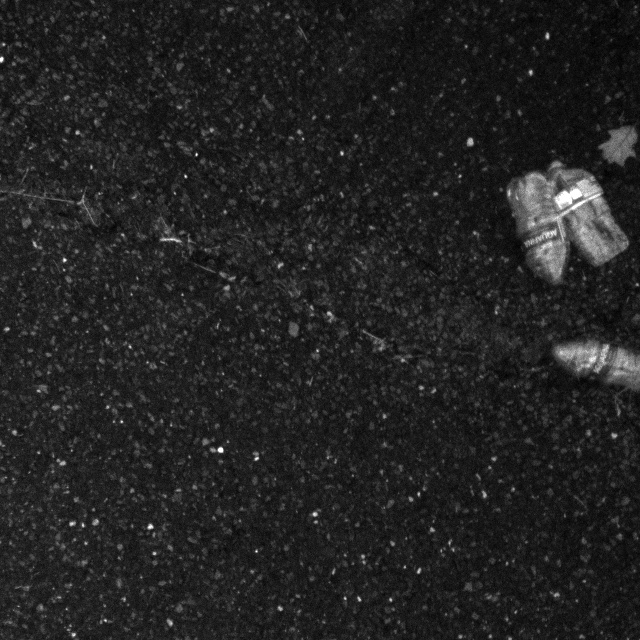bottle: (499, 159, 580, 295), (549, 142, 632, 269), (541, 319, 640, 406)
